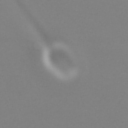normal: (5, 1, 50, 47)
